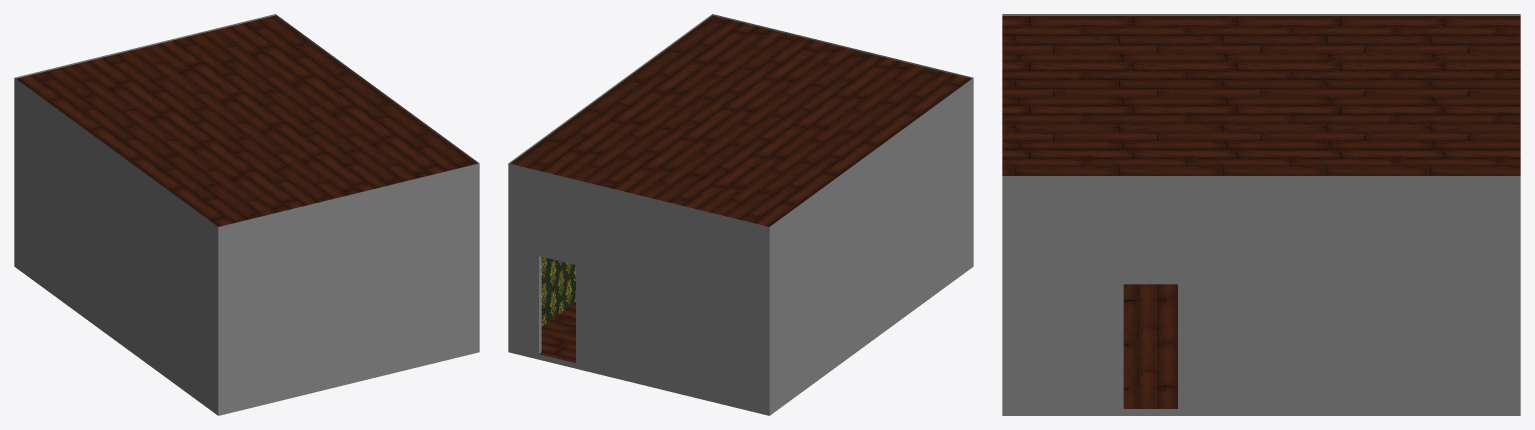
File: Cocina_arreglada.FBX
3 renders of one model, left to right at view 1: azimuth 30°, elevation 25°; view 2: azimuth 150°, elevation 25°; view 3: azimuth 270°, elevation 25°, orthographic. The views are drawn at different scales.
Visible parts, largest first — view 1: Cocina Paredes, Cocina Techo; view 2: Cocina Paredes, Cocina Techo, Cocina piso; view 3: Cocina Paredes, Cocina Techo, Cocina piso.
Part boxes in pixels (x1,y1,x2,y2): Cocina Paredes: [14, 14, 479, 415]; Cocina Techo: [16, 15, 477, 226]; Cocina Paredes: [508, 14, 973, 415]; Cocina Techo: [510, 15, 971, 226]; Cocina piso: [539, 302, 575, 362]; Cocina Paredes: [1002, 14, 1520, 415]; Cocina Techo: [1002, 16, 1520, 175]; Cocina piso: [1123, 284, 1177, 408].
Bounding box in the file's own units: 525 × 363 × 711.
